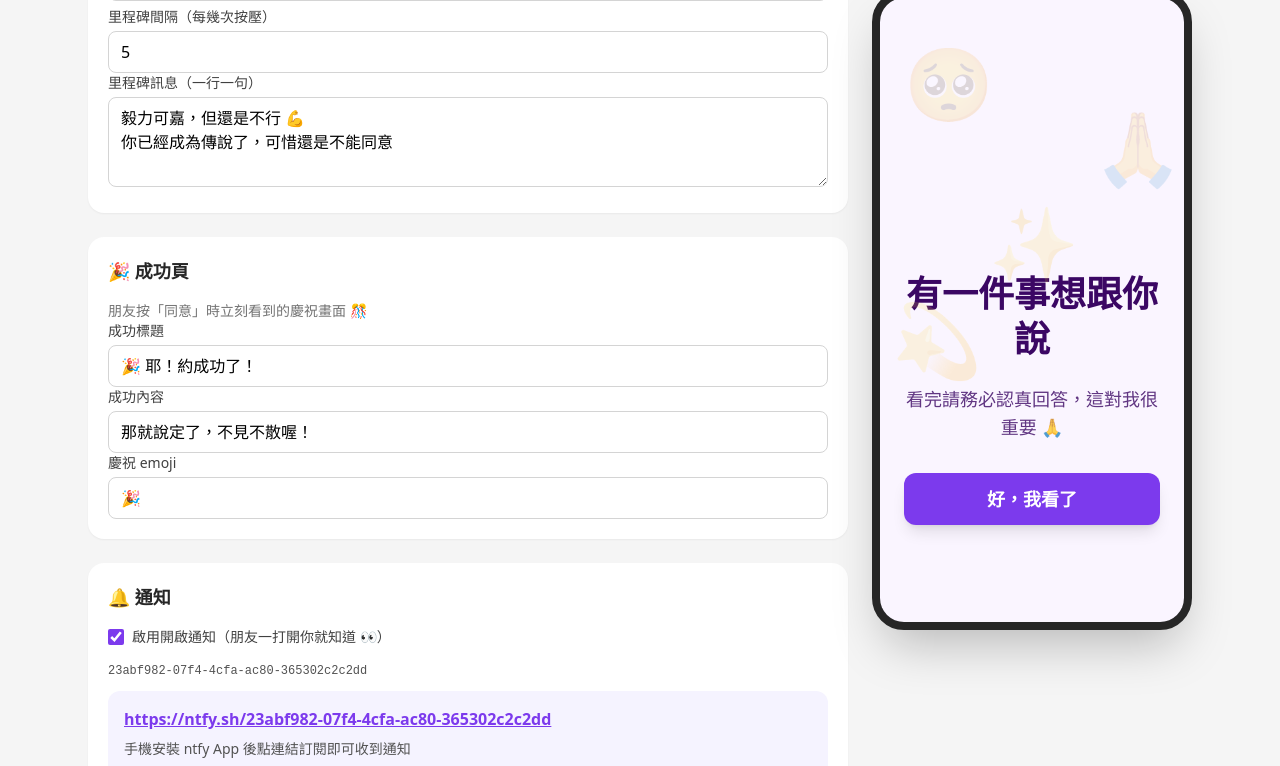
EditorPage — layout › typing 成功標題 reaches the preview success screen after 同意
(page scrolled)
In the field labelled "成功標題": (468, 366) 108,345 -> 828,387, type "自訂成功囉"
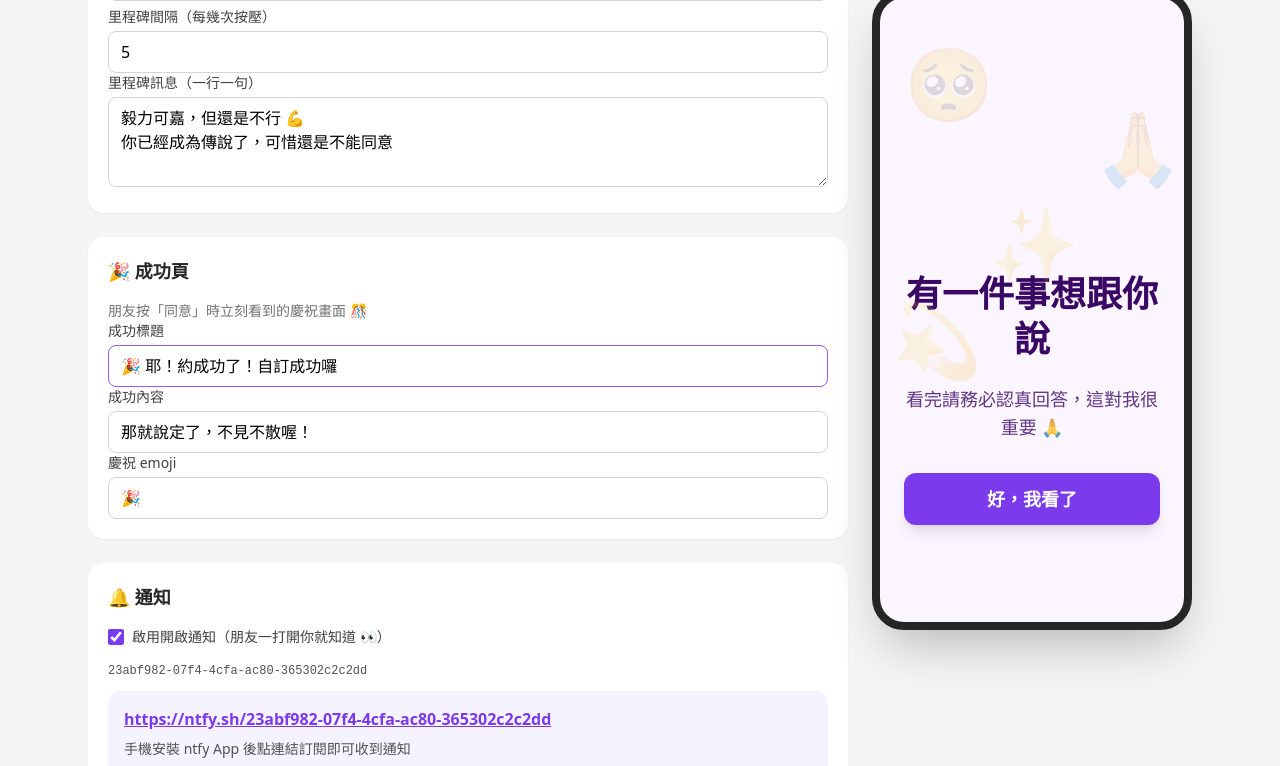
Click the button with test id "intro-cta": (1032, 499) 904,473 -> 1160,525
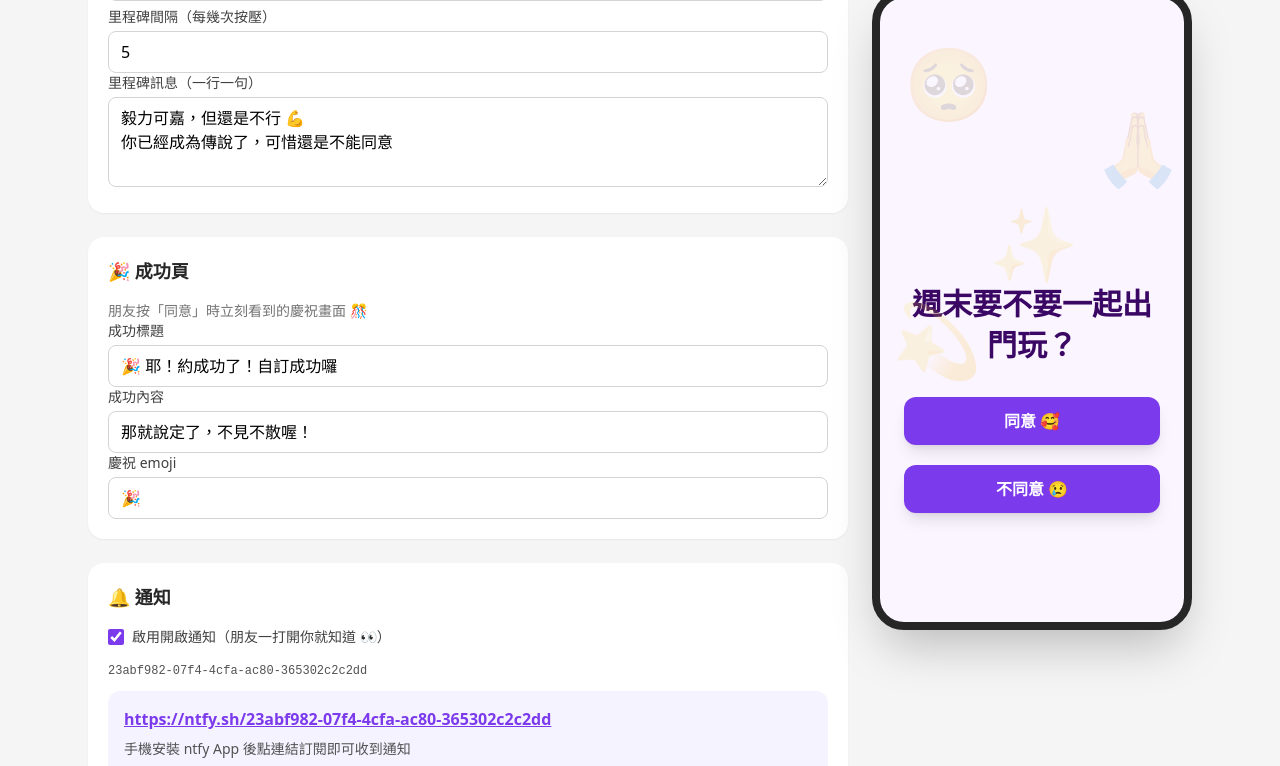
Click the button with test id "btn-agree": (1032, 421) 904,397 -> 1160,445
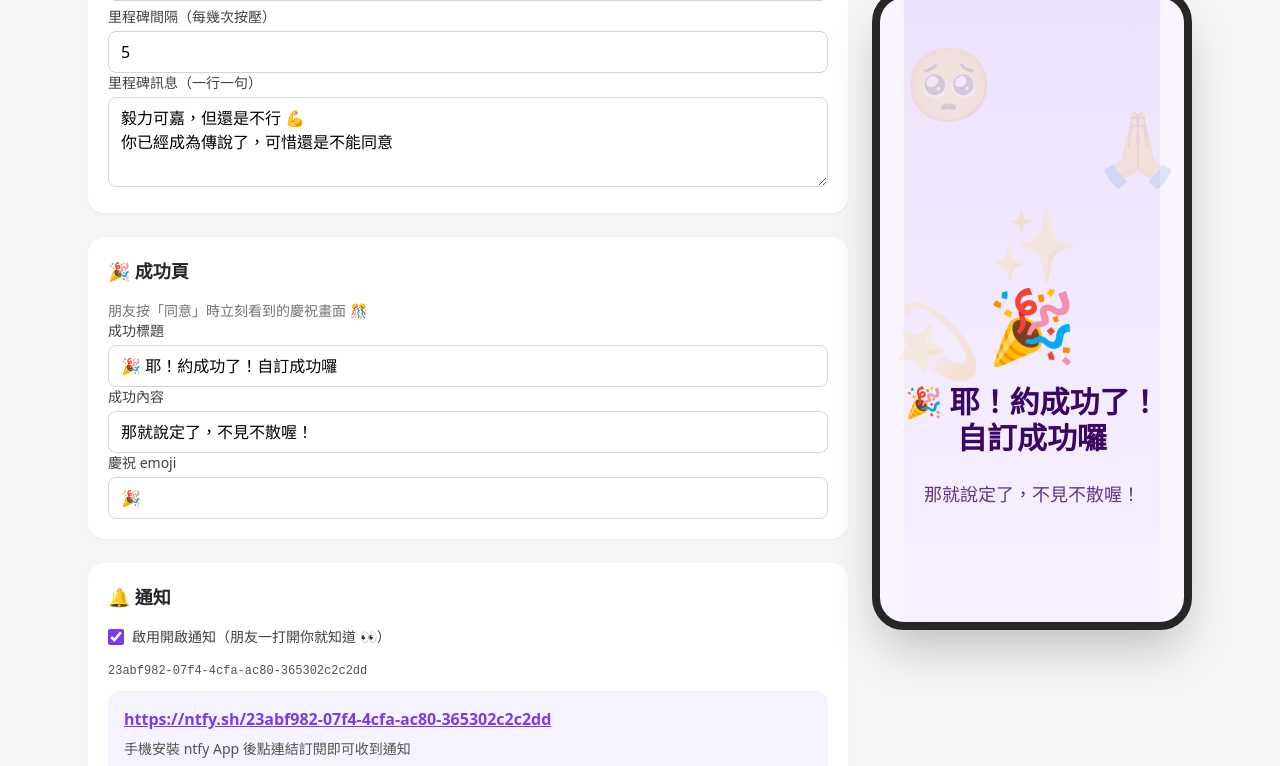
Now the heading with test id "success-title" shows "自訂成功囉", box 905,381 -> 1159,458
